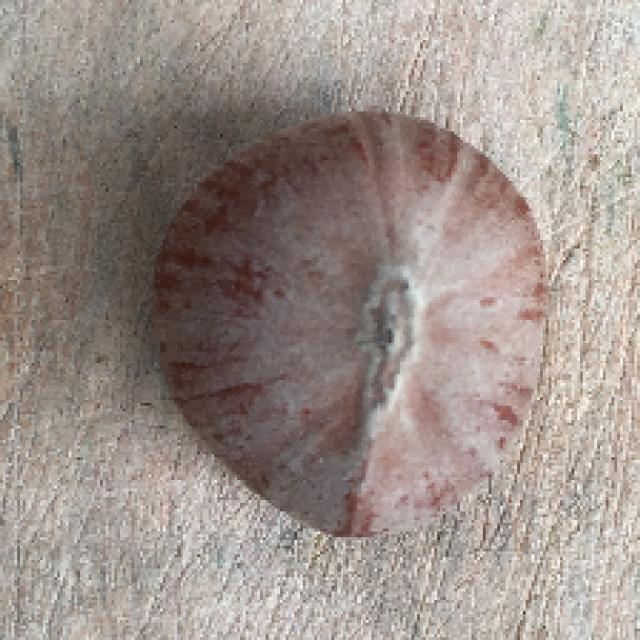QualityHazelnut: (149, 102, 553, 543)
